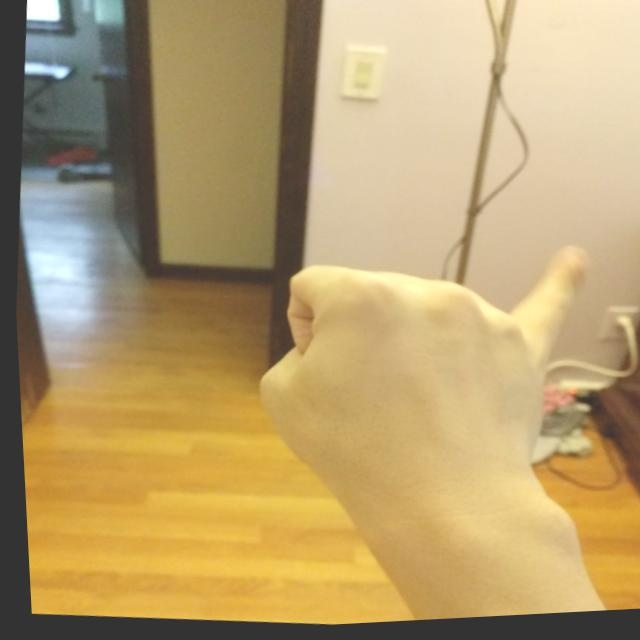J: (227, 210, 615, 534)
